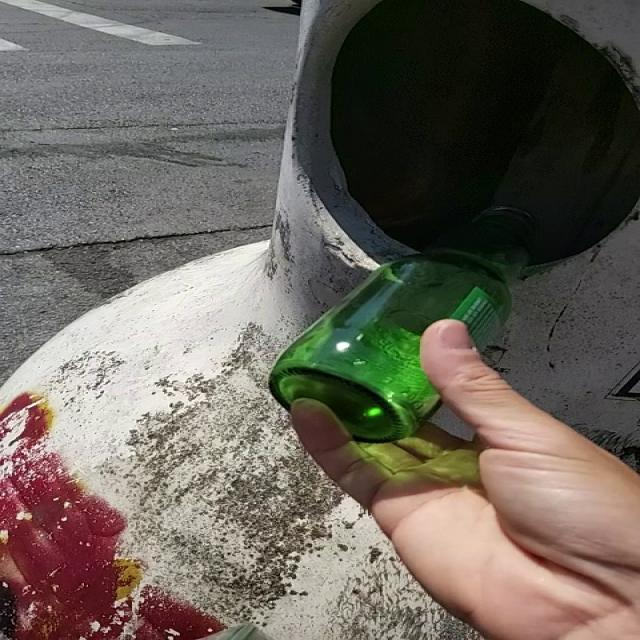glass: (271, 207, 535, 442)
